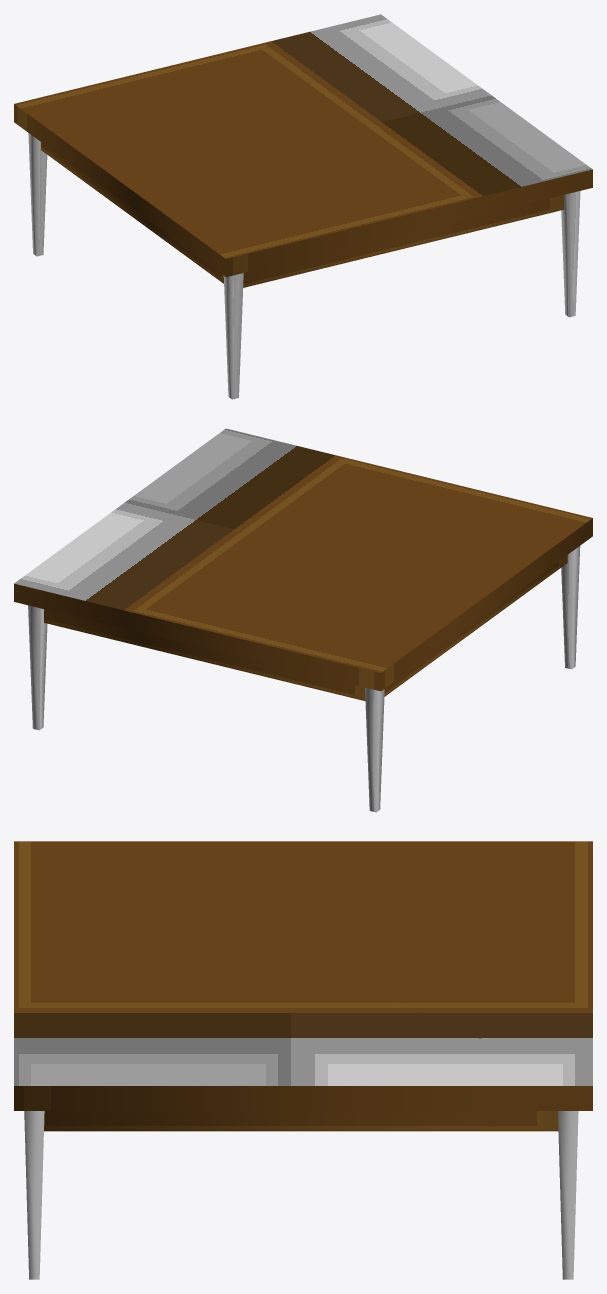
The picture shows the model from 3 angles, top to bottom: view 1: azimuth 30°, elevation 25°; view 2: azimuth 150°, elevation 25°; view 3: azimuth 270°, elevation 25°; orthographic projection. The views are drawn at different scales.
Parts seen in each view (by area): view 1: 3615kg_26_ta0; view 2: 3615kg_26_ta0; view 3: 3615kg_26_ta0.
Part boxes in pixels (box(x1,y1,x2,y2)): 3615kg_26_ta0: box(14, 14, 592, 399); 3615kg_26_ta0: box(14, 428, 592, 812); 3615kg_26_ta0: box(14, 841, 592, 1279).
Bounding box in the file's own units: 1.95 × 0.75 × 1.95.
1 material, 1 textured.
